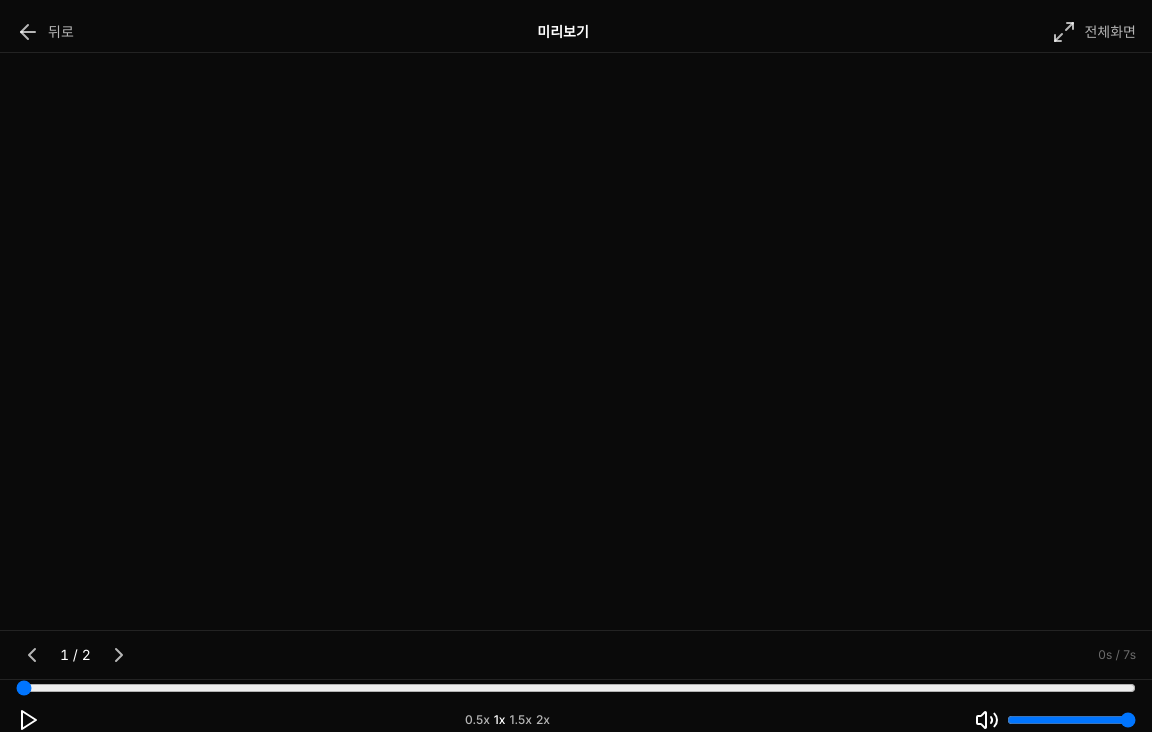
Test: RemotionPreviewPage › navigates to next scene
Expected: the text "1 / 2" is shown, [60,645,91,665]
Step 1. Click the button named "다음" → (119, 655), box [103,639,135,671]
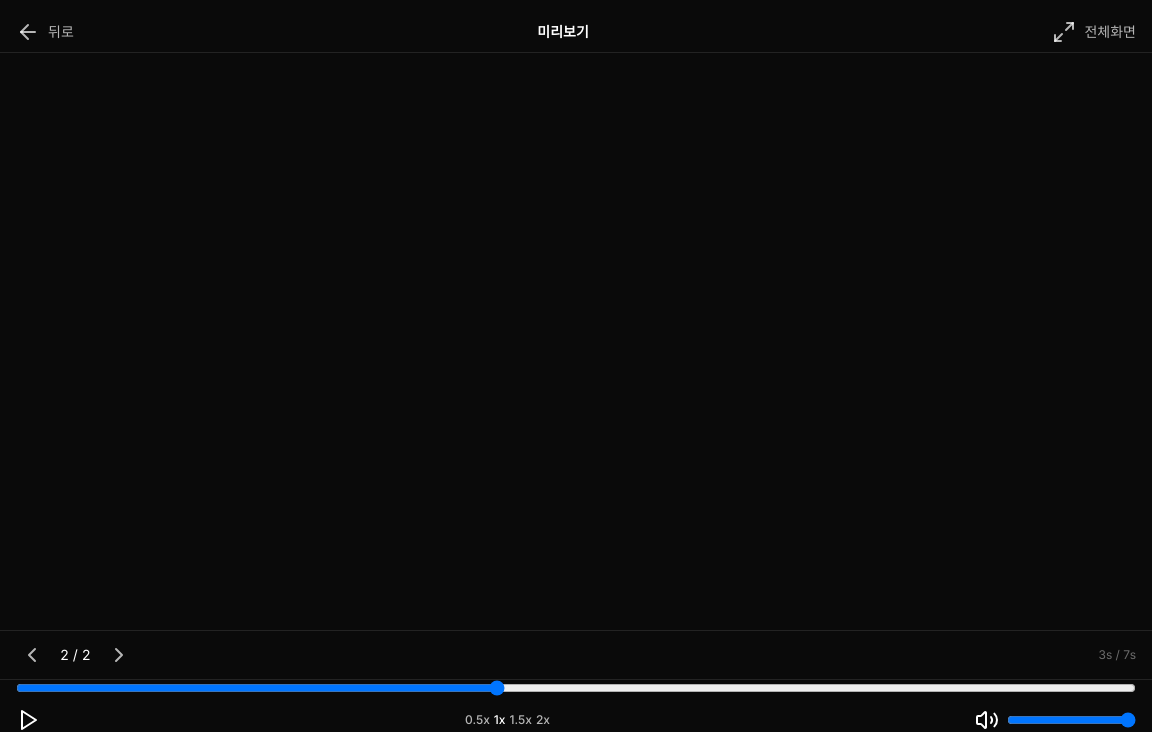
Expected: the text "2 / 2" is shown, [60,645,91,665]
